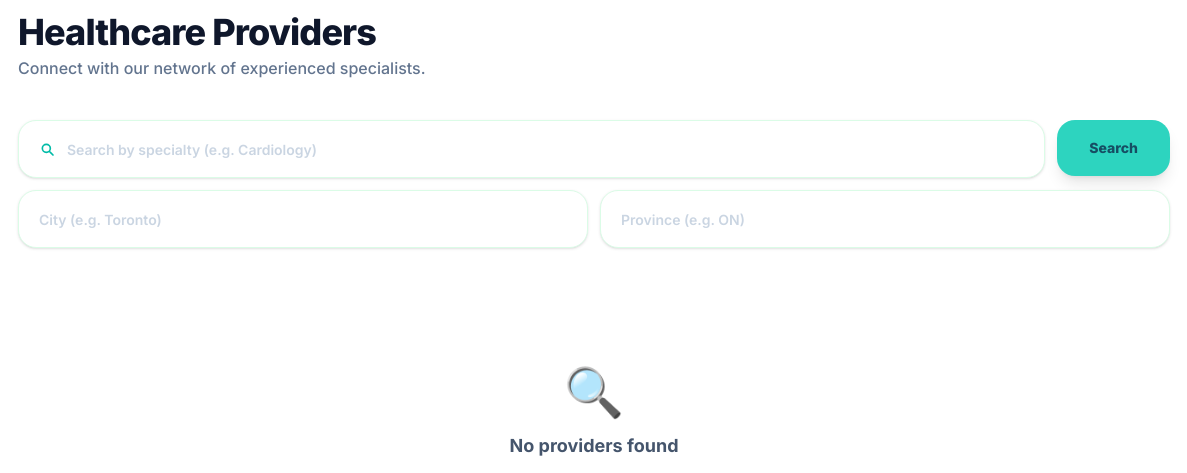
Test: ProvidersPage › shows autocomplete suggestions in SuggestionInput when options are loaded
Step 1. Click the field with placeholder "Search by specialty (e.g. Cardiology)" → click(546, 149), box x1=67 y1=121 x2=1024 y2=177
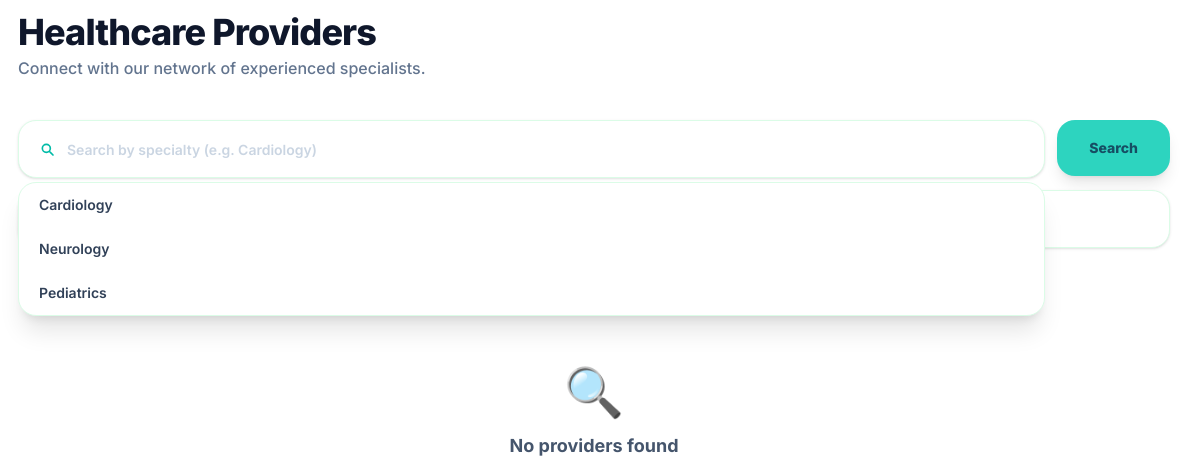
Check: the list item "Cardiology" is shown, box x1=39 y1=196 x2=113 y2=213
Check: the list item "Neurology" is shown, box x1=39 y1=240 x2=110 y2=257
Check: the list item "Pediatrics" is shown, box x1=39 y1=284 x2=107 y2=301
